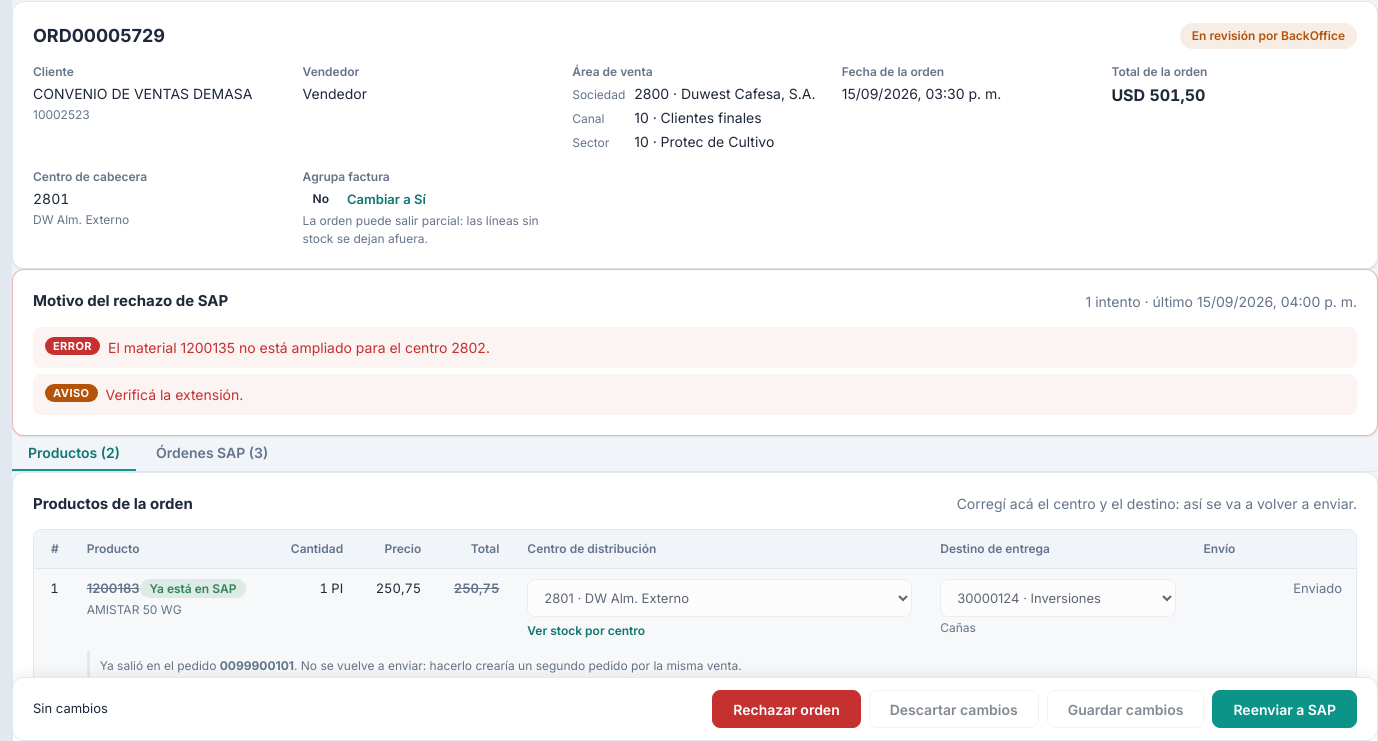
Test case: ReviewOrderDetail › las órdenes SAP se separan por intento › muestra una divisoria por envío, con su fecha y su app
This screenshot has width=1378, height=741.
expect the heading "ORD00005729" is shown: met, box x1=33 y1=22 x2=165 y2=49
Click the tab "Órdenes SAP (3)".
click(212, 453)  # box x1=140 y1=436 x2=284 y2=470
(page scrolled)
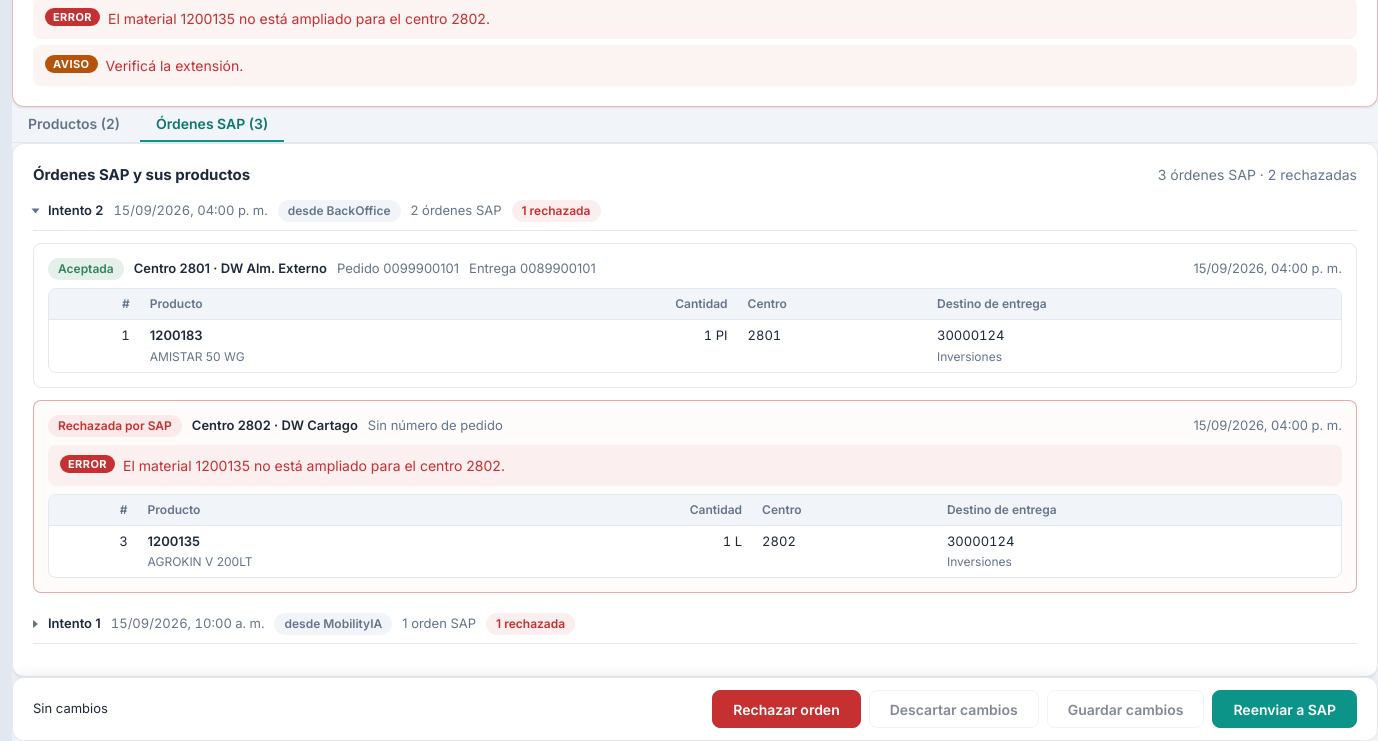
expect the text "Intento 2" is shown: met, box x1=48 y1=201 x2=103 y2=221
expect the text "Intento 1" is shown: met, box x1=48 y1=614 x2=101 y2=634
expect the text "desde BackOffice" is shown: met, box x1=278 y1=200 x2=400 y2=222
